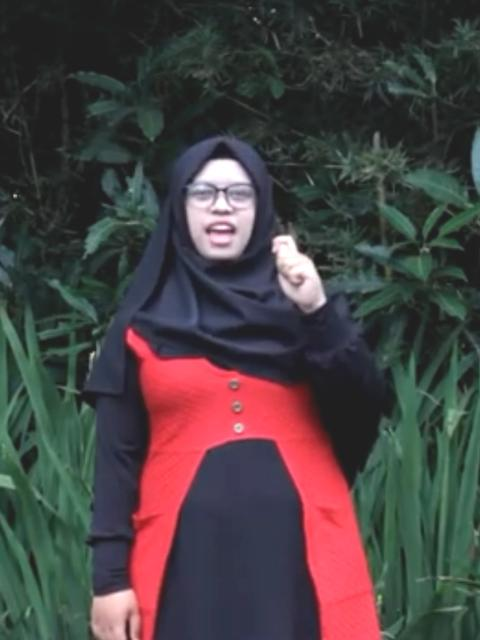T: (275, 232, 325, 314)
